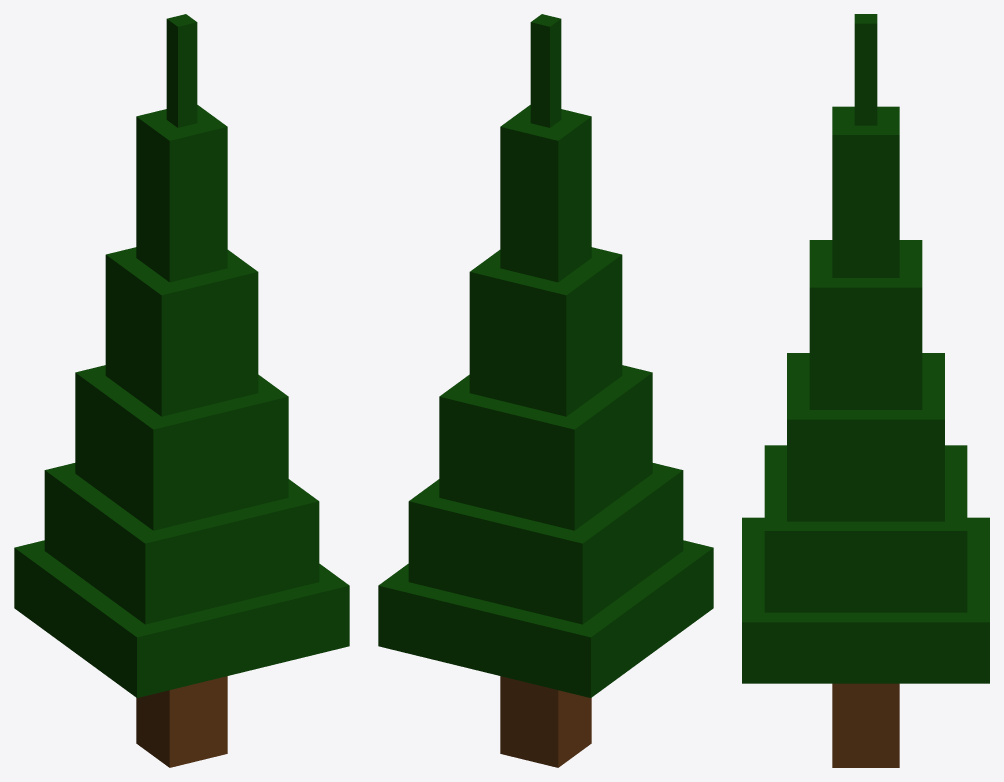
The model's file is Pine Tree(1) (Stage6).obj.
3 renders of one model, left to right at view 1: azimuth 30°, elevation 25°; view 2: azimuth 150°, elevation 25°; view 3: azimuth 270°, elevation 25°, orthographic.
Size of the model in its own units: 1.1 by 3.6 by 1.1.
1 material, 1 textured.
